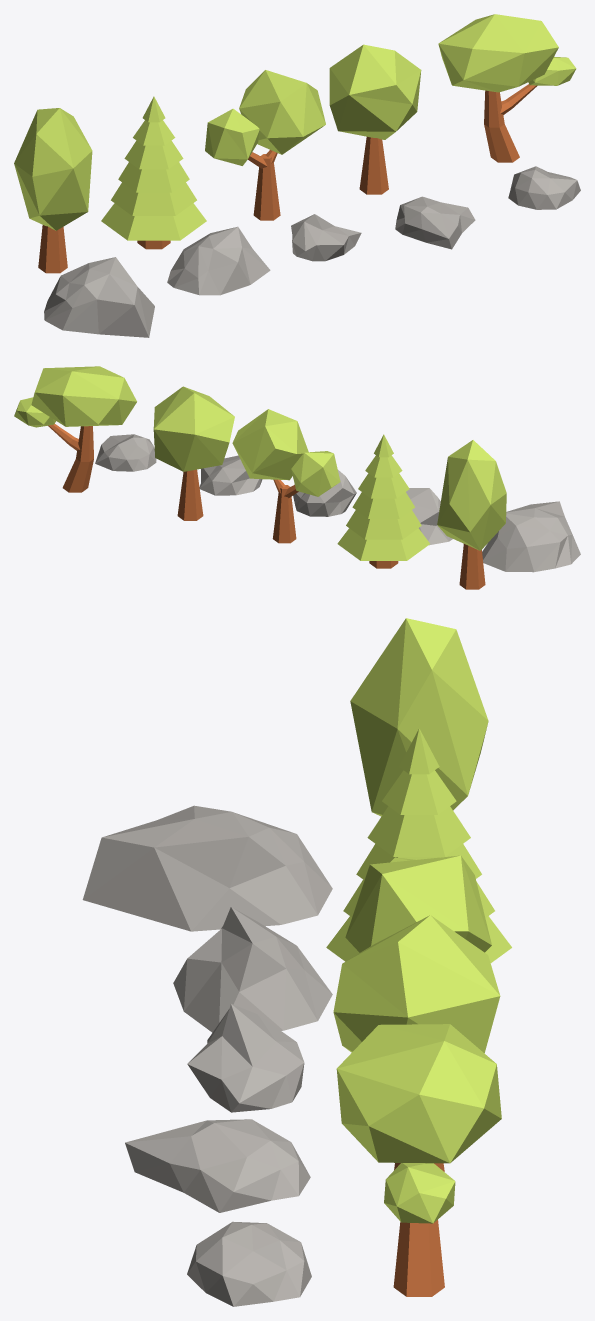
Rendered from lowpoly_trees.fbx.
The picture shows the model from 3 angles, top to bottom: view 1: azimuth 30°, elevation 25°; view 2: azimuth 150°, elevation 25°; view 3: azimuth 270°, elevation 25°; orthographic projection. The views are drawn at different scales.
Visible parts, largest first — view 1: Cylinder.003, Icosphere.001, Cylinder.002, Cylinder.001, Cylinder, Icosphere.005, Icosphere.004, Icosphere.002, Icosphere, Icosphere.003; view 2: Cylinder.003, Icosphere.001, Cylinder.002, Cylinder.001, Cylinder, Icosphere.005, Icosphere, Icosphere.002, Icosphere.003, Icosphere.004; view 3: Cylinder.003, Icosphere.005, Cylinder.002, Cylinder, Icosphere.004, Icosphere.002, Cylinder.001, Icosphere.001, Icosphere.003, Icosphere.
Boxes of the visible parts, x1,y1,x2,y2 form: Cylinder.003: (438,14,576,162); Icosphere.001: (205,70,325,220); Cylinder.002: (14,108,92,273); Cylinder.001: (101,96,206,249); Cylinder: (329,44,421,194); Icosphere.005: (44,257,154,337); Icosphere.004: (167,226,270,295); Icosphere.002: (395,196,475,249); Icosphere: (508,166,580,209); Icosphere.003: (291,214,361,261); Cylinder.003: (14,366,136,492); Icosphere.001: (232,409,340,543); Cylinder.002: (437,440,506,589); Cylinder.001: (337,434,429,568); Cylinder: (153,386,234,520); Icosphere.005: (482,501,580,572); Icosphere: (95,434,156,471); Icosphere.002: (199,455,262,495); Icosphere.003: (293,469,356,516); Icosphere.004: (406,488,452,545); Cylinder.003: (336,1024,501,1296); Icosphere.005: (82,805,332,931); Cylinder.002: (350,618,488,816); Cylinder: (333,915,500,1171); Icosphere.004: (173,907,332,1032); Icosphere.002: (125,1119,310,1212); Cylinder.001: (326,728,511,962); Icosphere.001: (345,855,491,952); Icosphere.003: (187,1004,304,1112); Icosphere: (187,1221,311,1306).
Size of what is drawn, in the model's own units: 1357 by 363 by 497.
